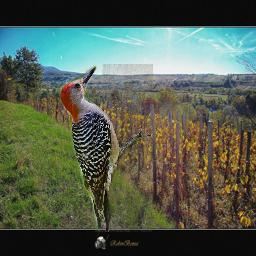Woodpecker: (54, 64, 153, 232)
